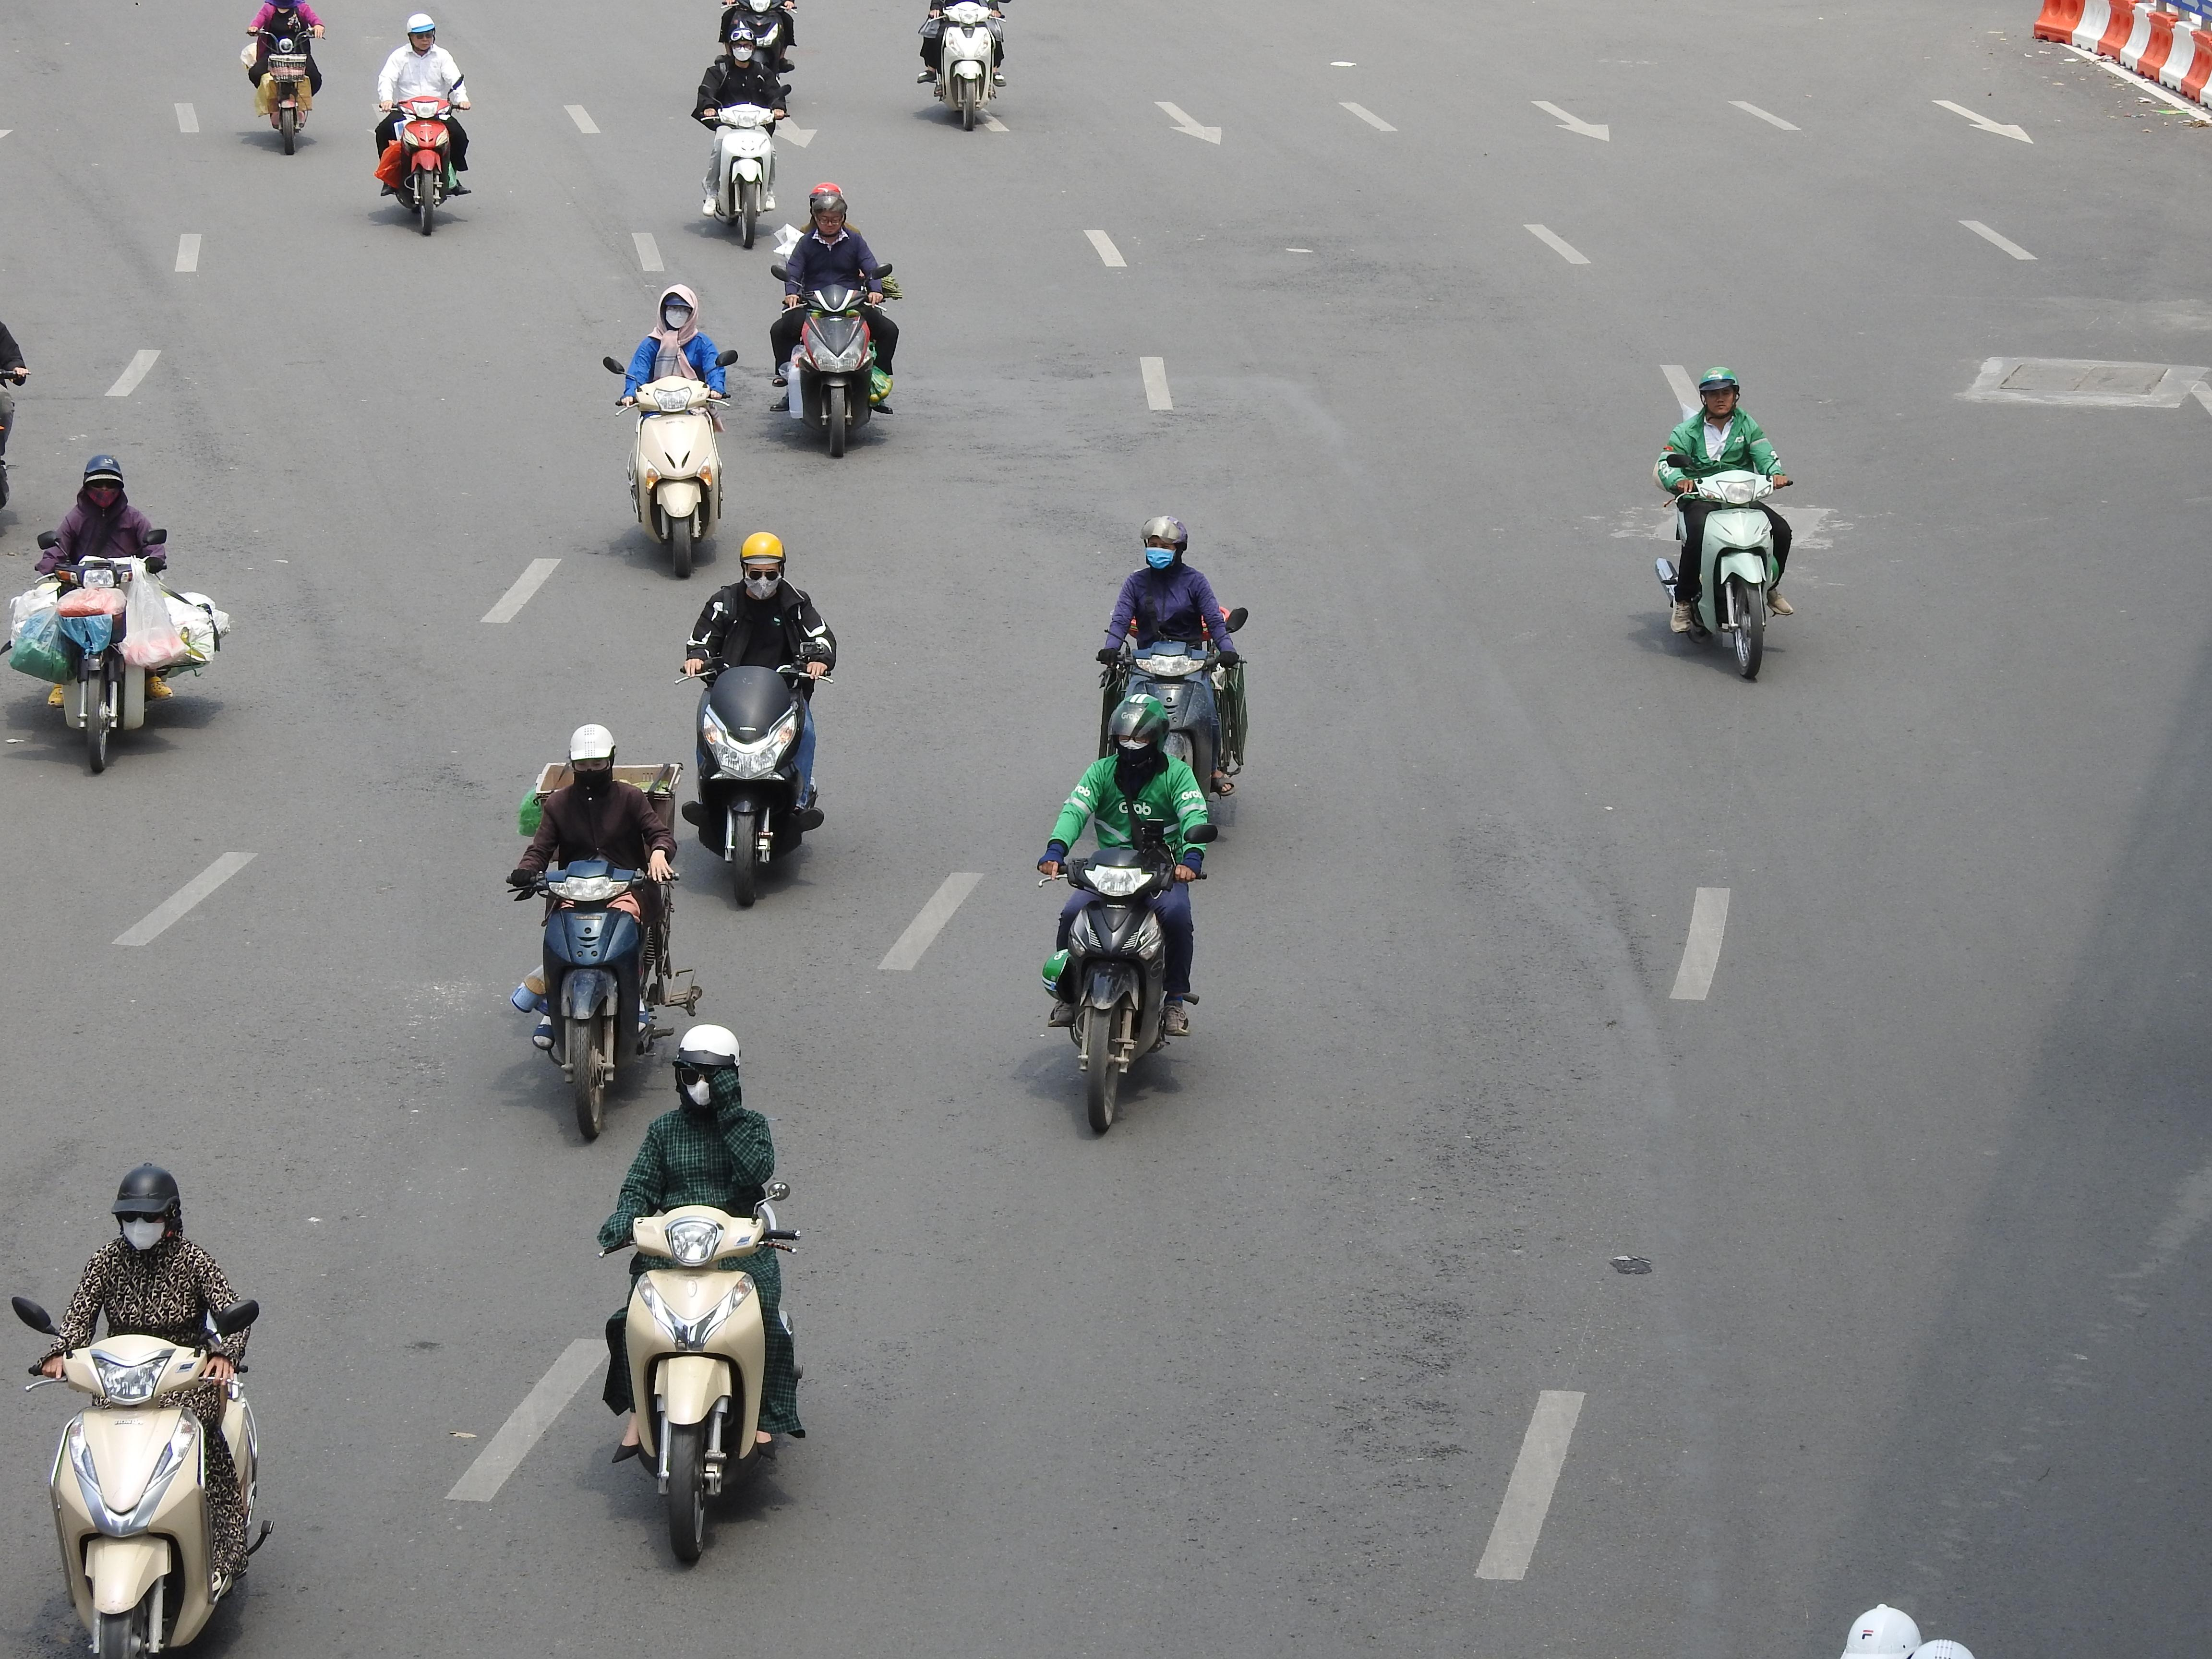motorbike: (17, 1162, 273, 1659), (597, 1021, 806, 1568), (510, 721, 688, 1145), (1038, 692, 1205, 1138), (19, 453, 219, 777), (678, 530, 833, 910), (1096, 514, 1251, 836), (1655, 366, 1794, 683), (770, 181, 899, 460), (613, 284, 732, 580), (374, 14, 470, 237), (695, 35, 789, 249), (244, 0, 324, 157), (920, 0, 1008, 131), (718, 0, 799, 80)
